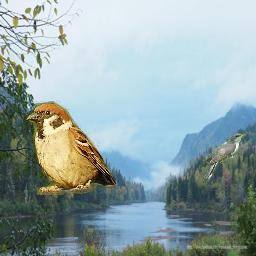Cuckoo: (202, 134, 246, 183)
Sparrow: (24, 101, 116, 195)
